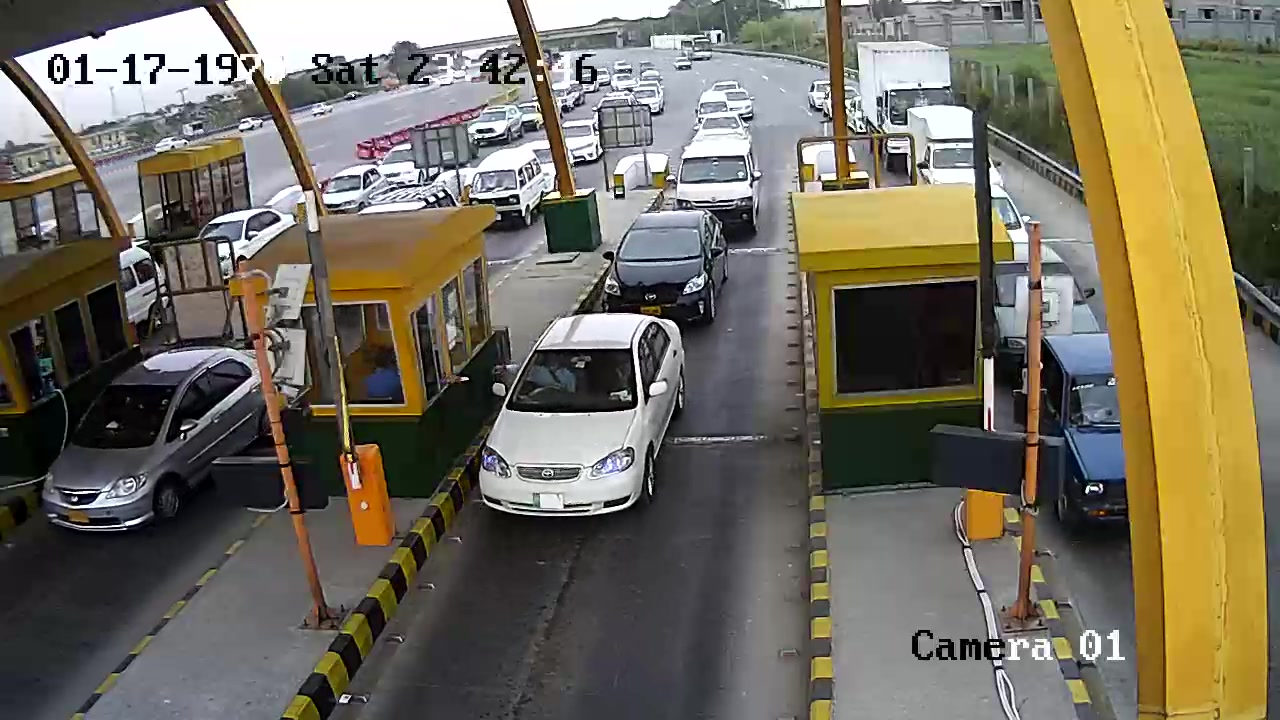F1: (468, 306, 712, 538)
